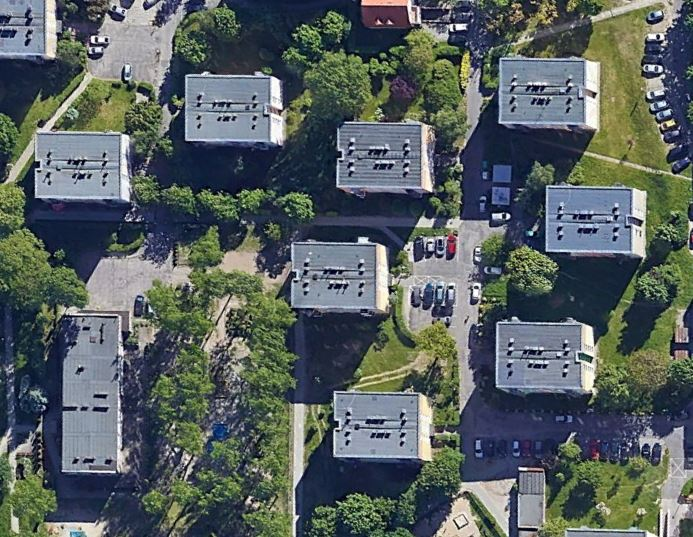block of flats: (54, 307, 131, 483), (489, 314, 604, 399), (284, 233, 394, 321), (181, 68, 292, 154), (29, 126, 141, 210), (541, 180, 649, 265), (331, 119, 441, 201), (496, 52, 602, 134), (328, 386, 437, 465), (1, 1, 61, 66)
garage: (511, 460, 552, 537)
